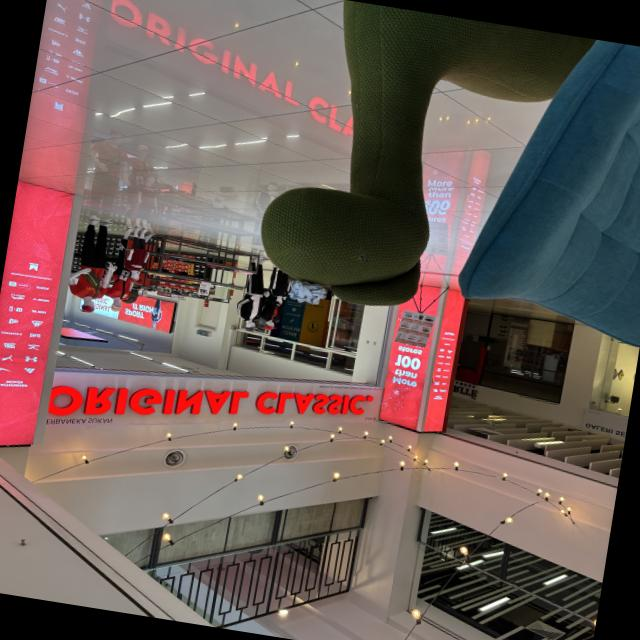crumpled_paper: (286, 278, 329, 308)
